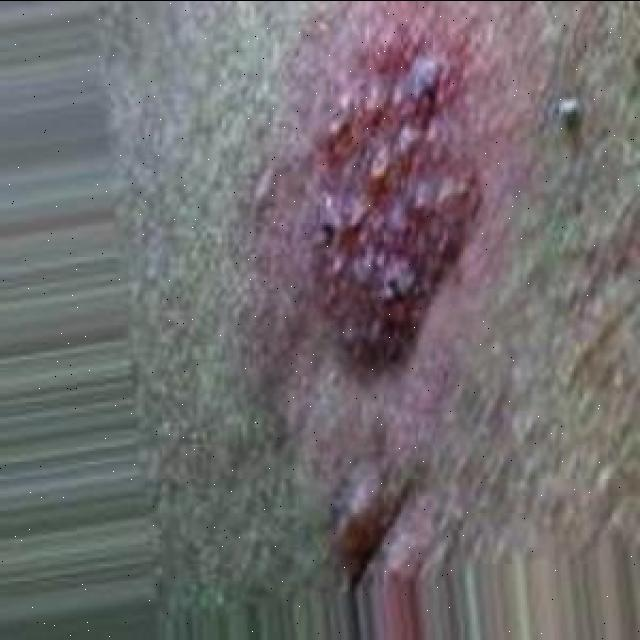Shingles: (296, 18, 477, 368)
